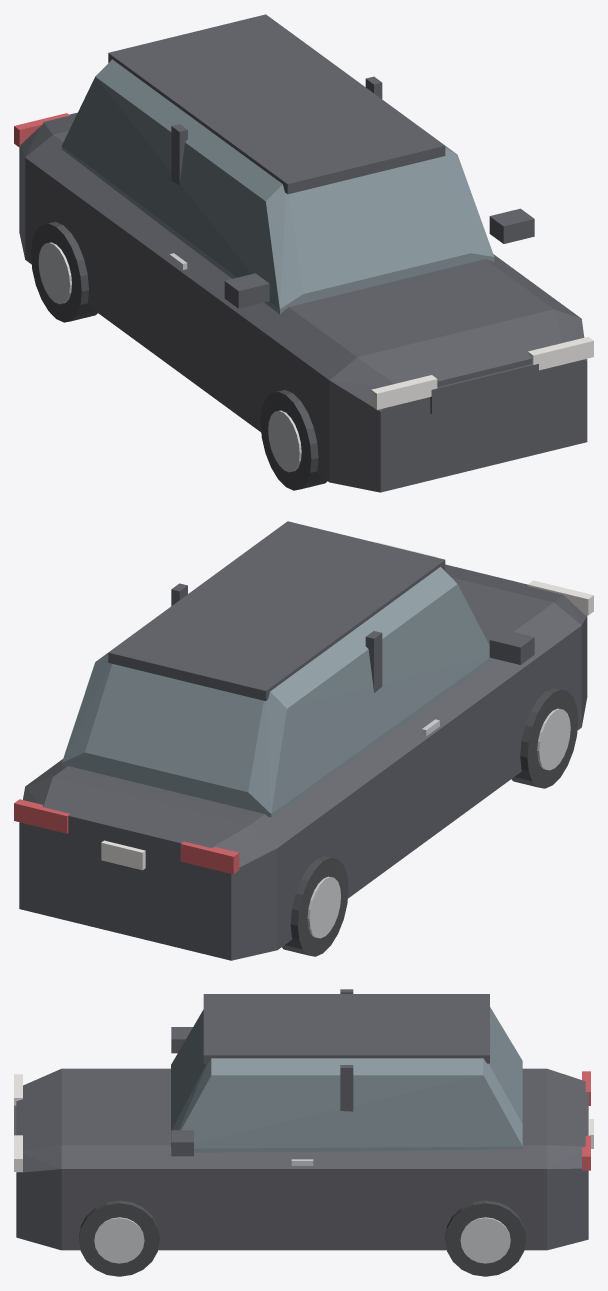
Rendered from prado-2024.glb.
The picture shows the model from 3 angles, top to bottom: view 1: azimuth 30°, elevation 25°; view 2: azimuth 150°, elevation 25°; view 3: azimuth 270°, elevation 25°; orthographic projection. The views are drawn at different scales.
Parts seen in each view (by area): view 1: body, cabin_glass, roof, wheel_-1_1_tire, wheel_-1_-1_tire, grille, wheel_-1_-1_rim, wheel_-1_1_rim, headlight_-1, headlight_1, mirror_-1, mirror_1 (+1 smaller); view 2: body, cabin_glass, roof, wheel_-1_1_tire, wheel_-1_-1_tire, wheel_-1_1_rim, wheel_-1_-1_rim, taillight_-1, mirror_-1, taillight_1, rear_plate, pillar_-1 (+1 smaller); view 3: body, cabin_glass, roof, wheel_1_-1_tire, wheel_1_1_tire, wheel_1_1_rim, wheel_1_-1_rim, pillar_1, mirror_1, mirror_-1.
Part boxes in pixels (<box>): body: <box>19,112,587,492</box>; cabin_glass: <box>61,59,494,314</box>; roof: <box>108,14,445,194</box>; wheel_-1_1_tire: <box>260,390,327,490</box>; wheel_-1_-1_tire: <box>31,221,97,322</box>; grille: <box>430,364,538,413</box>; wheel_-1_-1_rim: <box>38,242,71,304</box>; wheel_-1_1_rim: <box>268,410,301,472</box>; headlight_-1: <box>371,375,437,409</box>; headlight_1: <box>527,336,593,370</box>; mirror_-1: <box>224,273,269,308</box>; mirror_1: <box>489,208,534,243</box>; body: <box>19,564,587,960</box>; cabin_glass: <box>61,567,494,817</box>; roof: <box>108,521,445,701</box>; wheel_-1_1_tire: <box>511,688,578,788</box>; wheel_-1_-1_tire: <box>282,856,348,956</box>; wheel_-1_1_rim: <box>537,708,570,770</box>; wheel_-1_-1_rim: <box>307,876,340,938</box>; taillight_-1: <box>180,841,239,874</box>; mirror_-1: <box>489,629,534,664</box>; taillight_1: <box>14,799,69,833</box>; rear_plate: <box>101,840,145,870</box>; pillar_-1: <box>365,631,382,692</box>; body: <box>16,1068,588,1250</box>; cabin_glass: <box>171,1007,522,1152</box>; roof: <box>203,994,489,1063</box>; wheel_1_-1_tire: <box>445,1200,525,1276</box>; wheel_1_1_tire: <box>79,1200,159,1276</box>; wheel_1_1_rim: <box>94,1217,144,1263</box>; wheel_1_-1_rim: <box>460,1217,510,1263</box>; pillar_1: <box>340,1065,353,1111</box>; mirror_1: <box>171,1130,193,1156</box>; mirror_-1: <box>171,1027,192,1053</box>.
Bounding box in the file's own units: 2.29 × 1.85 × 4.87.
